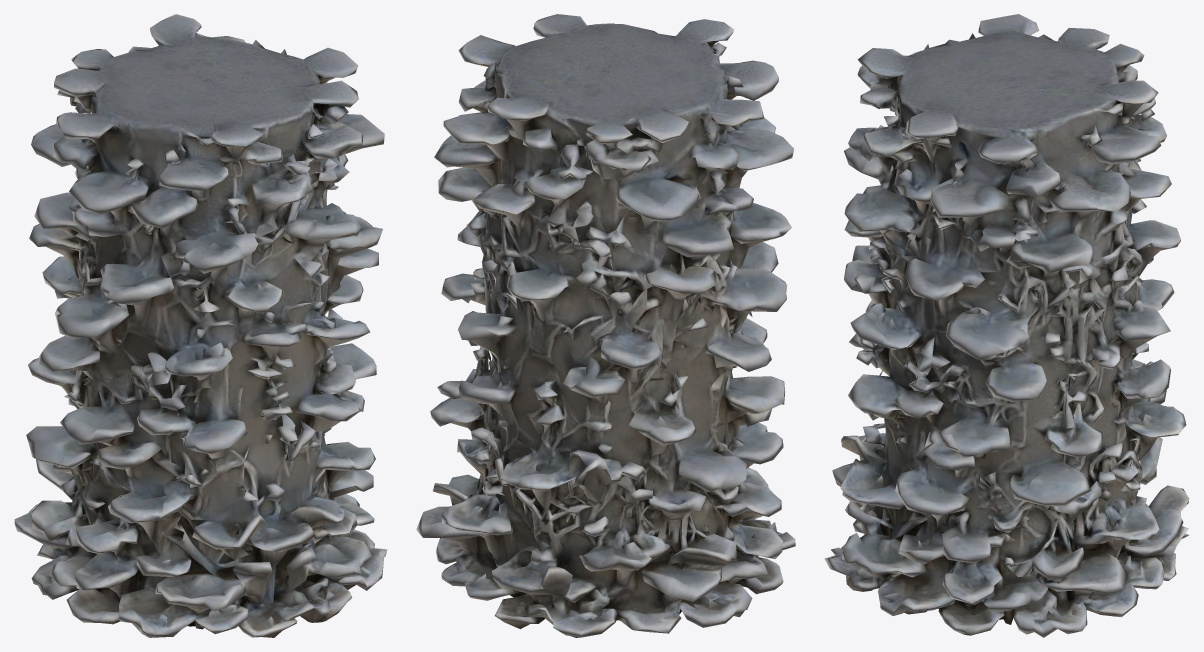
File: fungus_column.glb
The picture shows the model from 3 angles, left to right: view 1: azimuth 30°, elevation 25°; view 2: azimuth 150°, elevation 25°; view 3: azimuth 270°, elevation 25°; orthographic projection.
Parts seen in each view (by area): view 1: tripo_node_45ce9190-b269-4621-8494-29cfd86aecd4; view 2: tripo_node_45ce9190-b269-4621-8494-29cfd86aecd4; view 3: tripo_node_45ce9190-b269-4621-8494-29cfd86aecd4.
Boxes of the visible parts, box(x1,y1,x2,y2) form: tripo_node_45ce9190-b269-4621-8494-29cfd86aecd4: box(14, 14, 387, 637); tripo_node_45ce9190-b269-4621-8494-29cfd86aecd4: box(416, 14, 795, 637); tripo_node_45ce9190-b269-4621-8494-29cfd86aecd4: box(824, 14, 1189, 637).
Bounding box in the file's own units: 0.3323 × 0.5 × 0.3297.
Materials: 1 (1 with a texture image).
